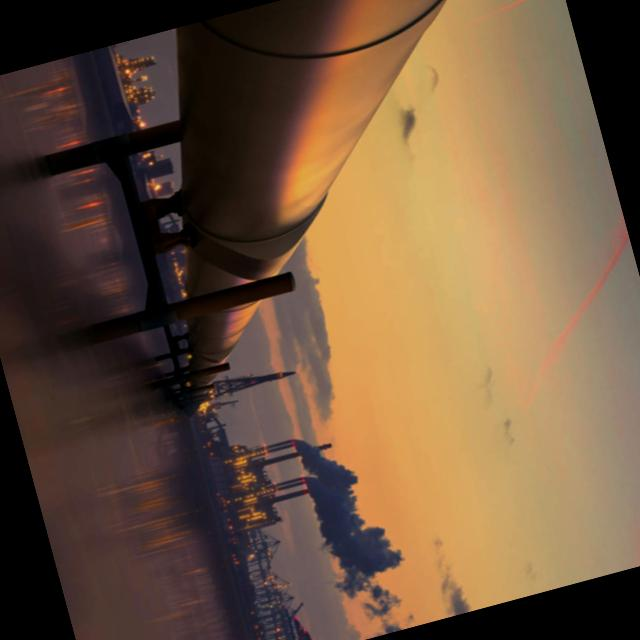gas: (181, 0, 442, 398)
